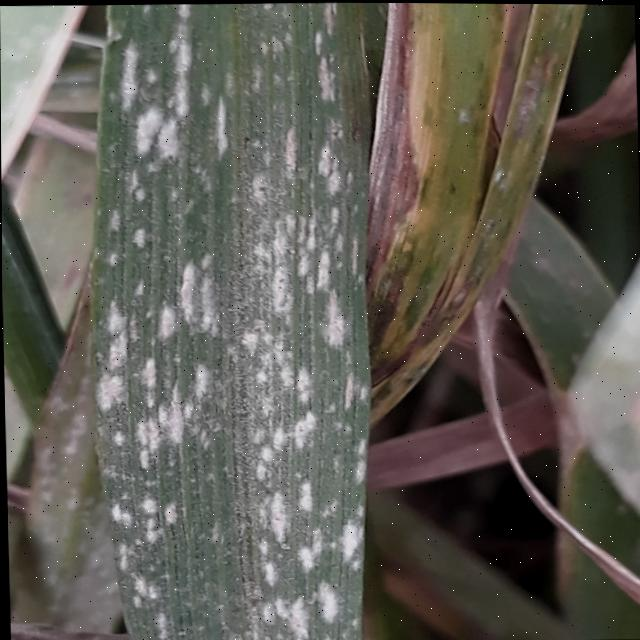powder_mildew: (76, 0, 377, 640), (360, 2, 613, 441), (21, 298, 107, 624), (0, 3, 110, 235)
